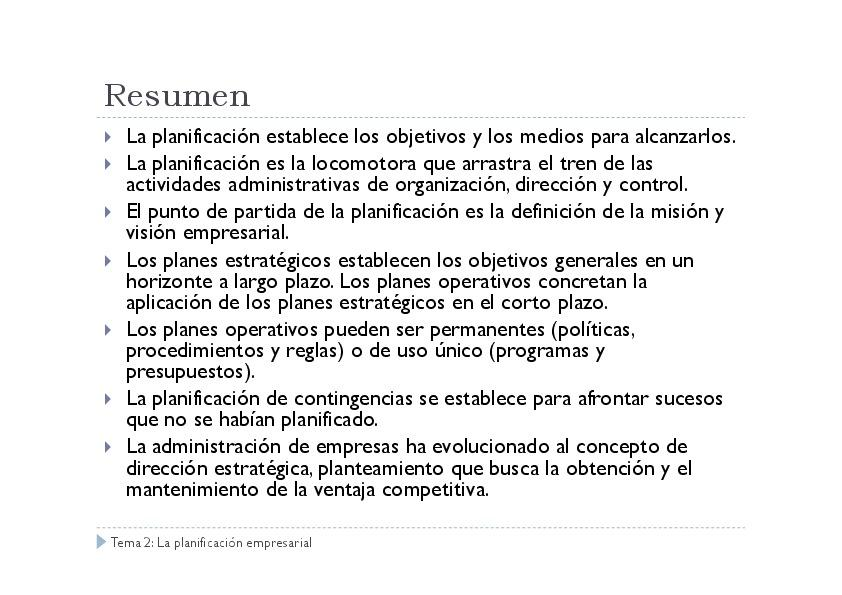paragraph: (89, 112, 781, 518)
title: (99, 77, 261, 121)
